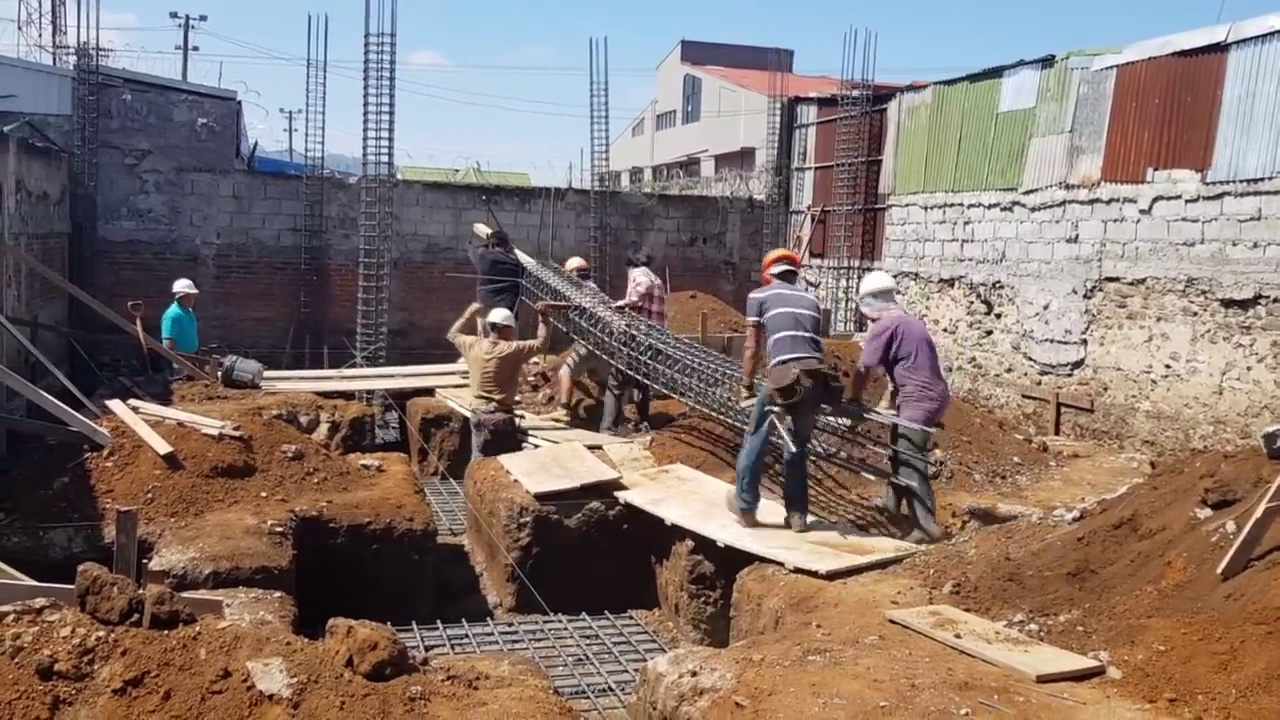helmet: (857, 268, 903, 305), (760, 248, 801, 283), (482, 304, 520, 328), (171, 281, 196, 301), (562, 255, 590, 272)
helmet-off: (624, 245, 654, 272), (487, 228, 510, 255)
helmet-on: (857, 269, 903, 328), (759, 247, 802, 289), (483, 304, 519, 342), (561, 256, 592, 284), (172, 279, 199, 311)
person: (844, 266, 944, 552), (732, 251, 826, 535), (447, 304, 549, 459), (610, 244, 665, 434), (557, 256, 606, 429), (468, 226, 525, 321), (160, 279, 201, 355)
